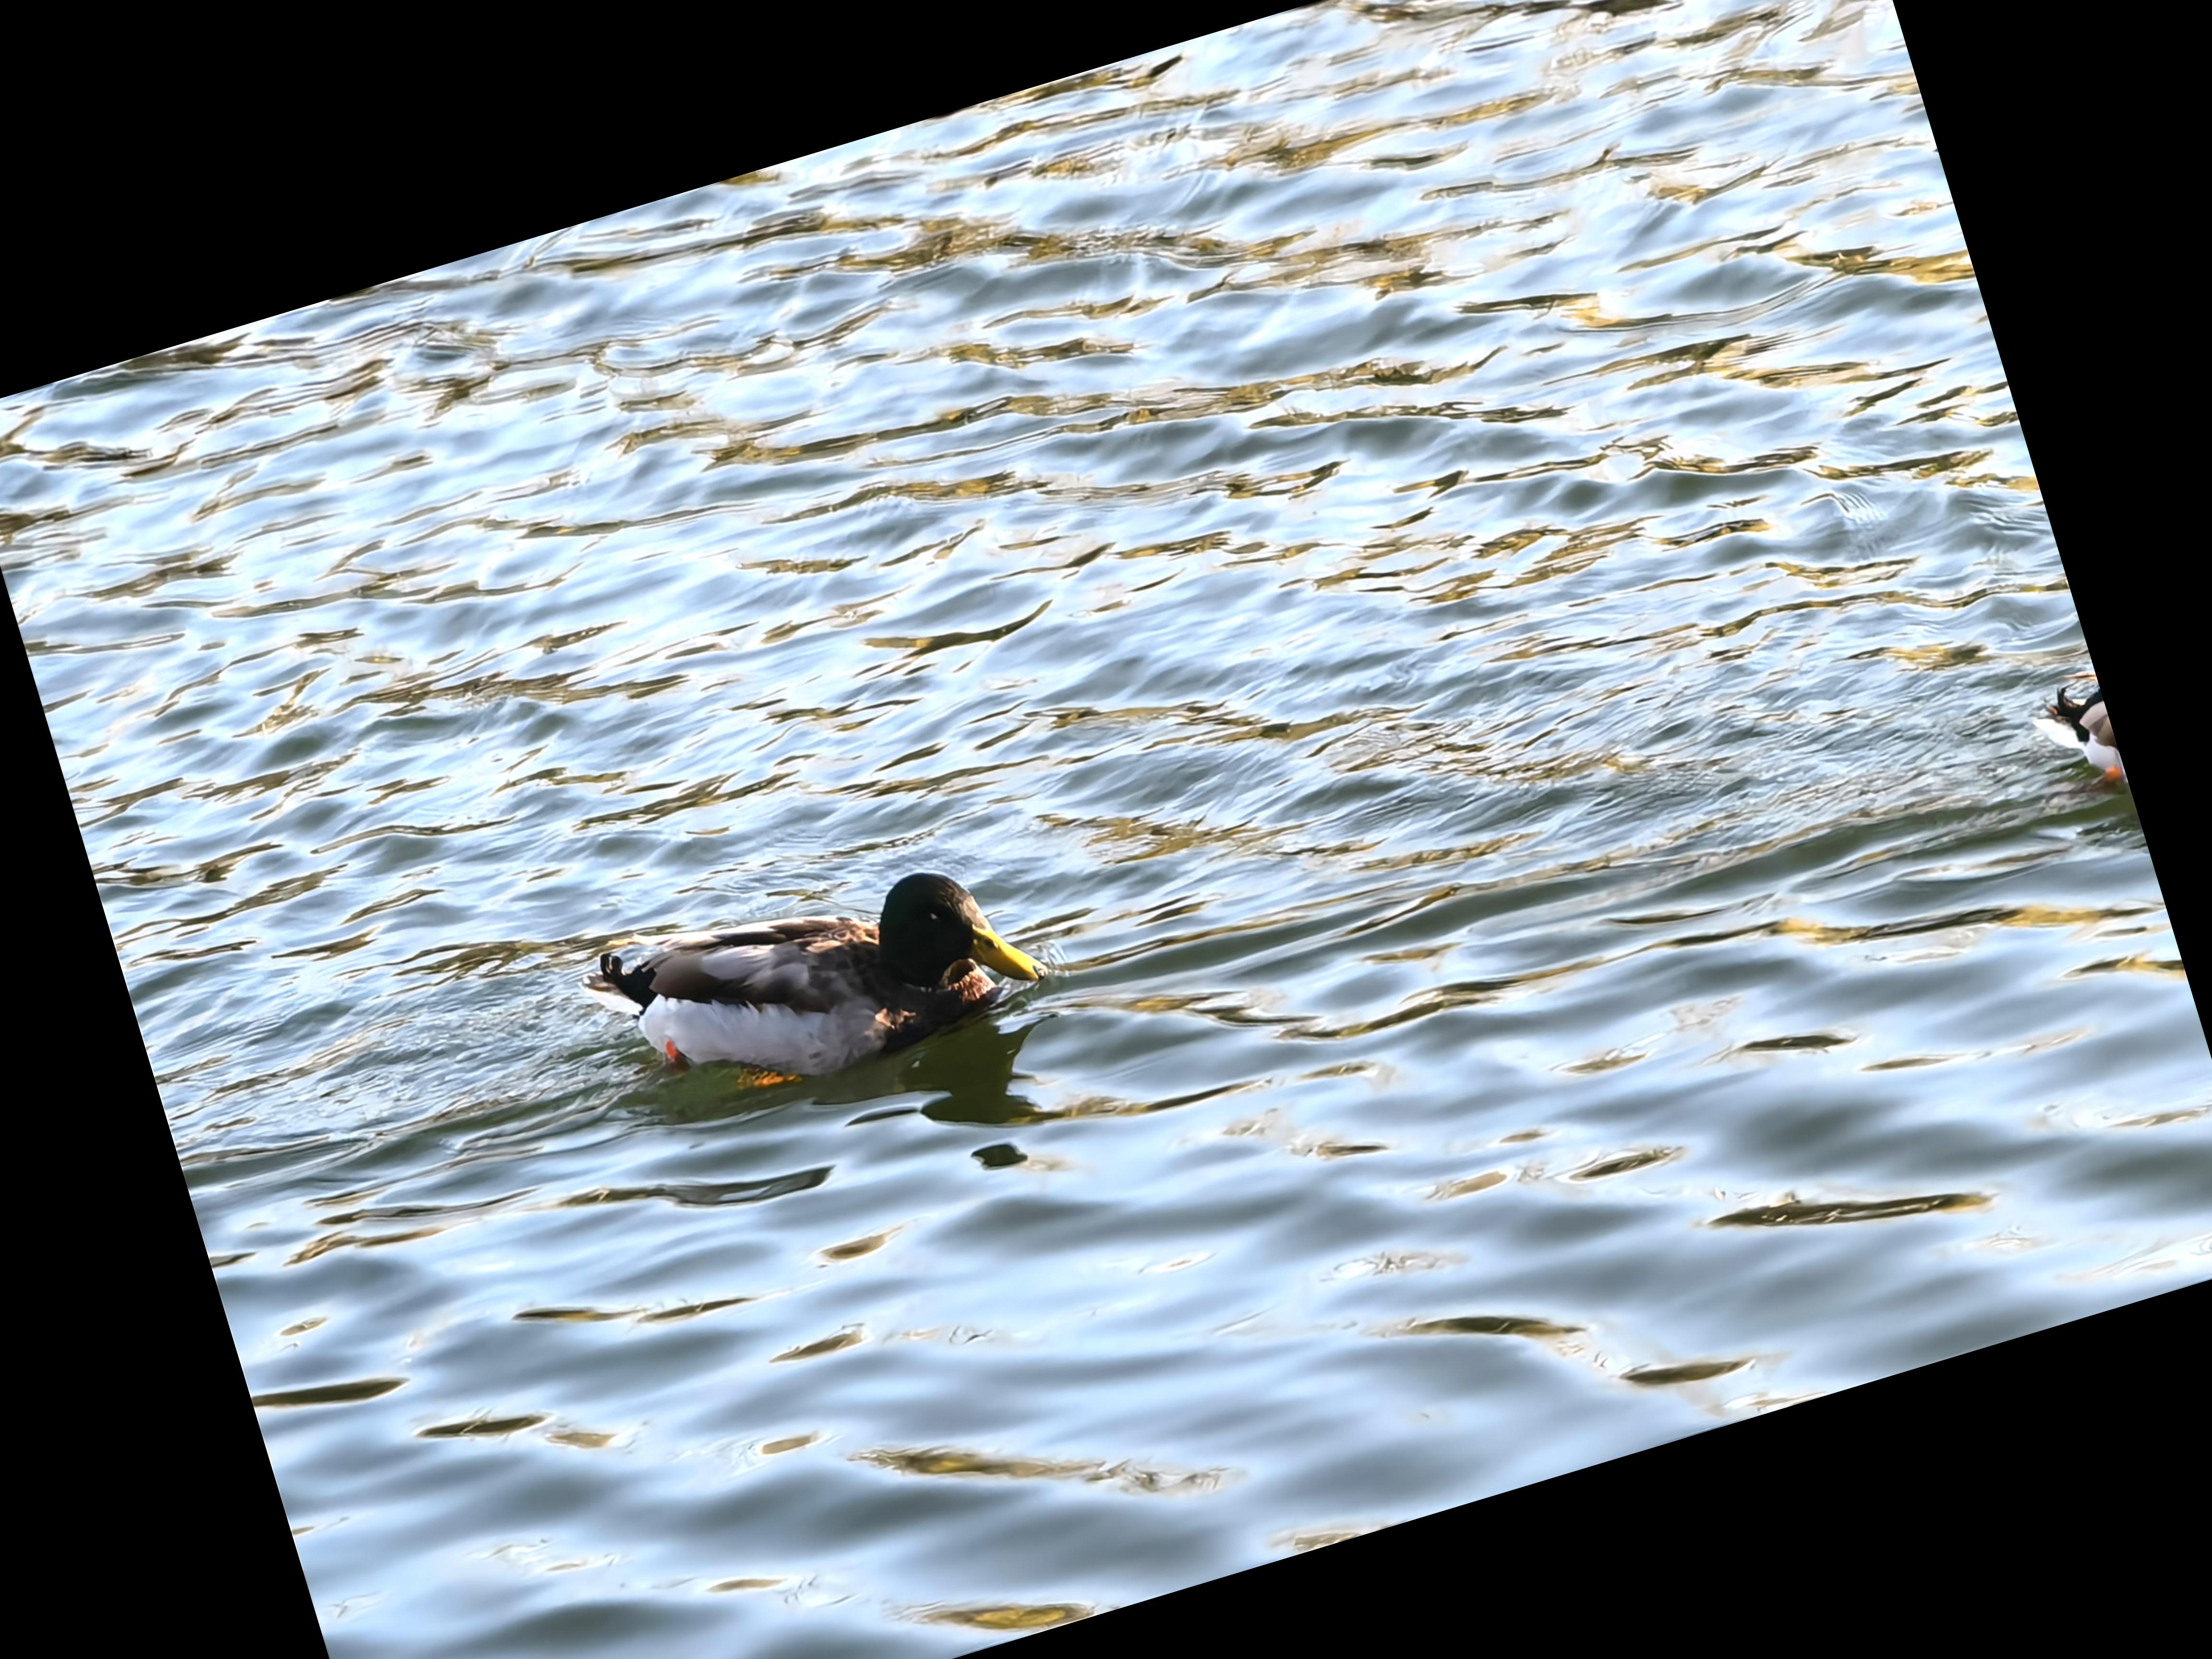duck: (514, 823, 1071, 1175)
